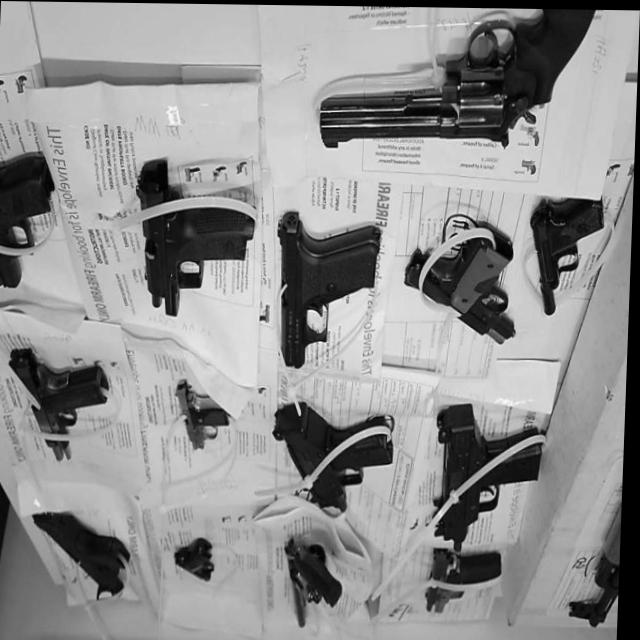handgun: (323, 5, 601, 171), (116, 162, 261, 326), (276, 197, 389, 382), (406, 212, 523, 351), (4, 334, 109, 472), (0, 155, 80, 302), (532, 182, 613, 320), (270, 525, 355, 630), (174, 350, 231, 474), (176, 531, 228, 586)
